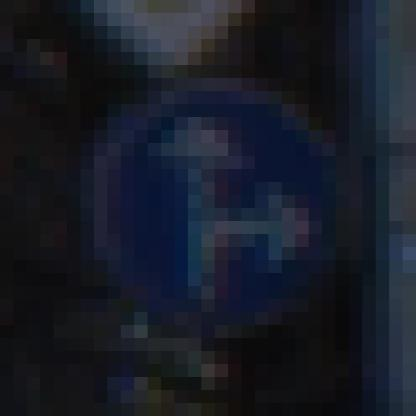Straight or Right: (68, 66, 350, 352)
